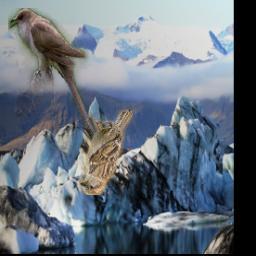Cuckoo: (9, 8, 96, 136)
Sparrow: (79, 110, 133, 195)
